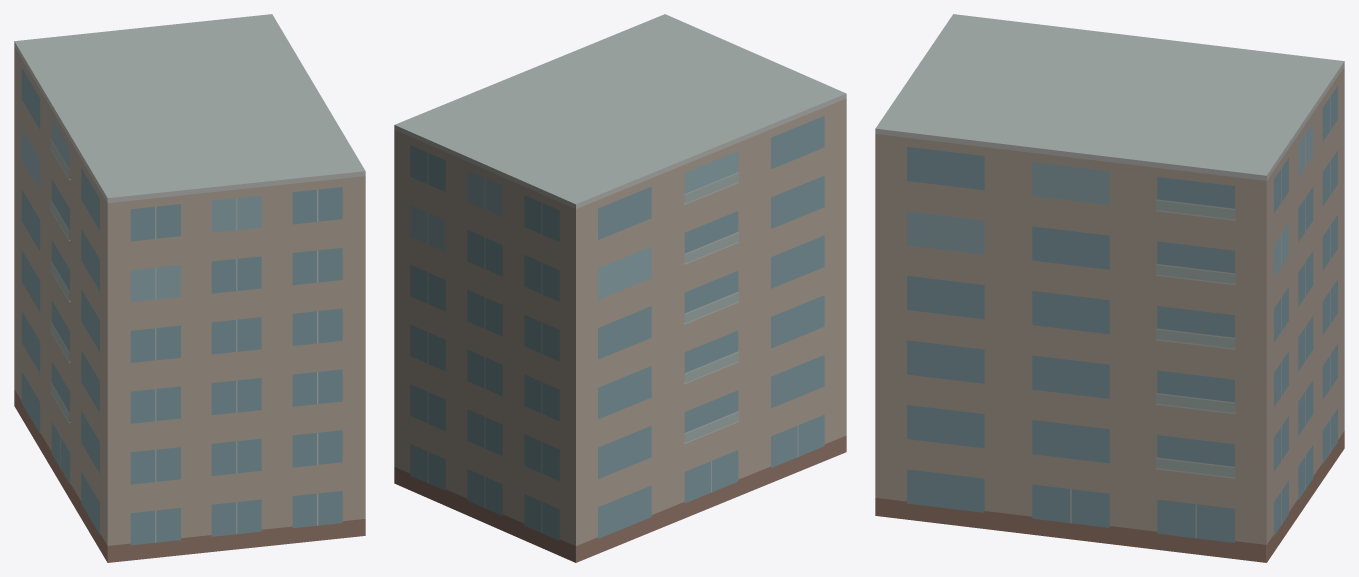
Rendered from survey-upis-32873366.glb.
3 views of the same model, side by side, from view 1: azimuth 30°, elevation 25°; view 2: azimuth 150°, elevation 25°; view 3: azimuth 270°, elevation 25° (orthographic). The views are drawn at different scales.
Parts seen in each view (by area): view 1: survey-upis-32873366.tmp; view 2: survey-upis-32873366.tmp; view 3: survey-upis-32873366.tmp.
Part boxes in pixels (box(x1,y1,x2,y2)): survey-upis-32873366.tmp: box(14, 14, 365, 562); survey-upis-32873366.tmp: box(394, 14, 846, 562); survey-upis-32873366.tmp: box(875, 14, 1344, 562).
Size of the model in its own units: 16.14 by 18 by 19.78.
